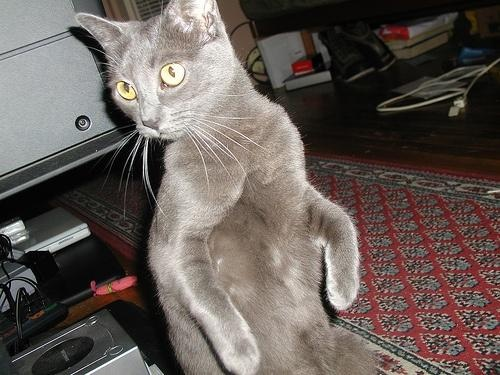cat: (76, 2, 381, 375)
